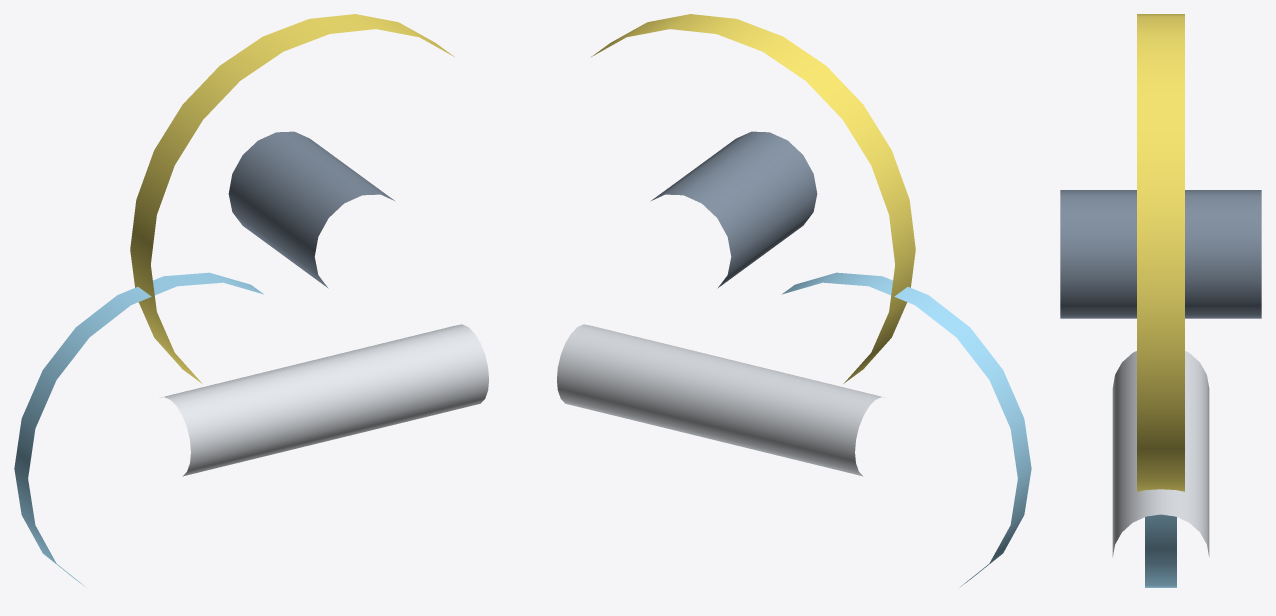
Rendered from worm_and_worm_wheel_machine.glb.
3 views of the same model, side by side, from view 1: azimuth 30°, elevation 25°; view 2: azimuth 150°, elevation 25°; view 3: azimuth 270°, elevation 25° (orthographic). The views are drawn at different scales.
Parts seen in each view (by area): view 1: SteelWormScrewSingleStartThread, LoadWindingDrumShaftAssembly, BronzeHelicalWormWheelGearT, EffortPulleyWheelDiameter2R; view 2: SteelWormScrewSingleStartThread, LoadWindingDrumShaftAssembly, BronzeHelicalWormWheelGearT, EffortPulleyWheelDiameter2R; view 3: BronzeHelicalWormWheelGearT, LoadWindingDrumShaftAssembly, SteelWormScrewSingleStartThread, EffortPulleyWheelDiameter2R.
Boxes of the visible parts, x1,y1,x2,y2 form: SteelWormScrewSingleStartThread: [161, 324, 488, 476]; LoadWindingDrumShaftAssembly: [228, 131, 395, 288]; BronzeHelicalWormWheelGearT: [130, 14, 454, 383]; EffortPulleyWheelDiameter2R: [14, 272, 263, 586]; SteelWormScrewSingleStartThread: [557, 324, 884, 476]; LoadWindingDrumShaftAssembly: [650, 131, 817, 288]; BronzeHelicalWormWheelGearT: [591, 14, 915, 383]; EffortPulleyWheelDiameter2R: [782, 272, 1031, 586]; BronzeHelicalWormWheelGearT: [1137, 14, 1184, 491]; LoadWindingDrumShaftAssembly: [1060, 190, 1261, 318]; SteelWormScrewSingleStartThread: [1112, 351, 1209, 557]; EffortPulleyWheelDiameter2R: [1145, 514, 1176, 587].
Size of the model in its own units: 0.8 by 0.85 by 0.25.
